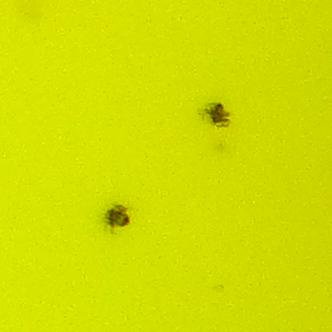Araneae: (100, 201, 132, 232), (199, 100, 232, 130)
